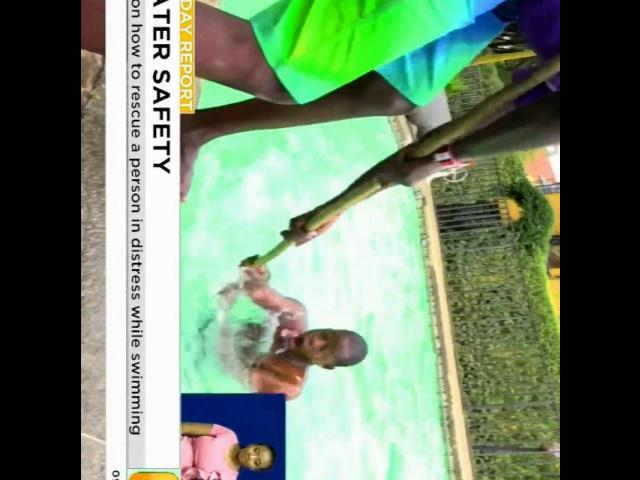swimming: (220, 295, 383, 412)
